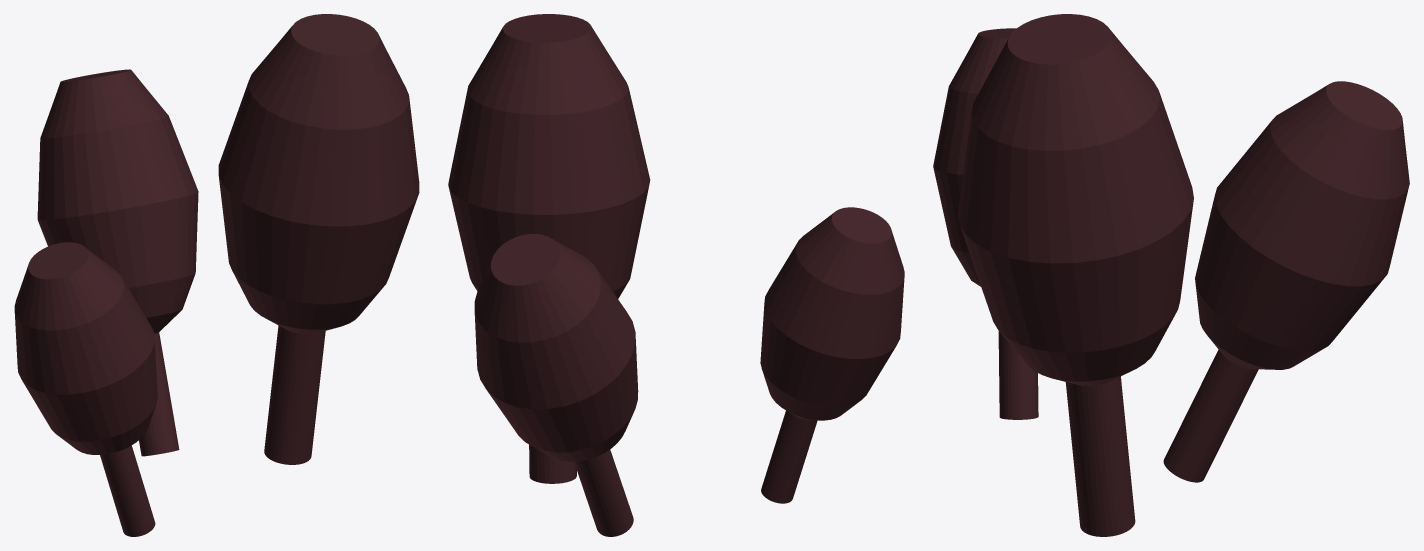
Rendered from SM_EN_Shroom_01.fbx.
3 renders of one model, left to right at view 1: azimuth 30°, elevation 25°; view 2: azimuth 150°, elevation 25°; view 3: azimuth 270°, elevation 25°, orthographic. The views are drawn at different scales.
Parts seen in each view (by area): view 1: SM_EN_Shroom_01; view 2: SM_EN_Shroom_01; view 3: SM_EN_Shroom_01.
Part boxes in pixels (bbox=[...]): SM_EN_Shroom_01: bbox=[14, 14, 419, 536]; SM_EN_Shroom_01: bbox=[448, 14, 904, 536]; SM_EN_Shroom_01: bbox=[933, 14, 1409, 536].
Size of the model in its own units: 74.83 by 64.45 by 76.49.
